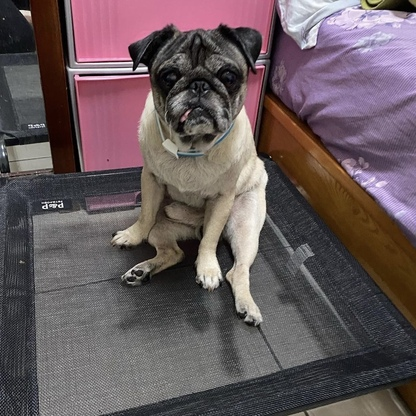Pug: (105, 16, 274, 331)
